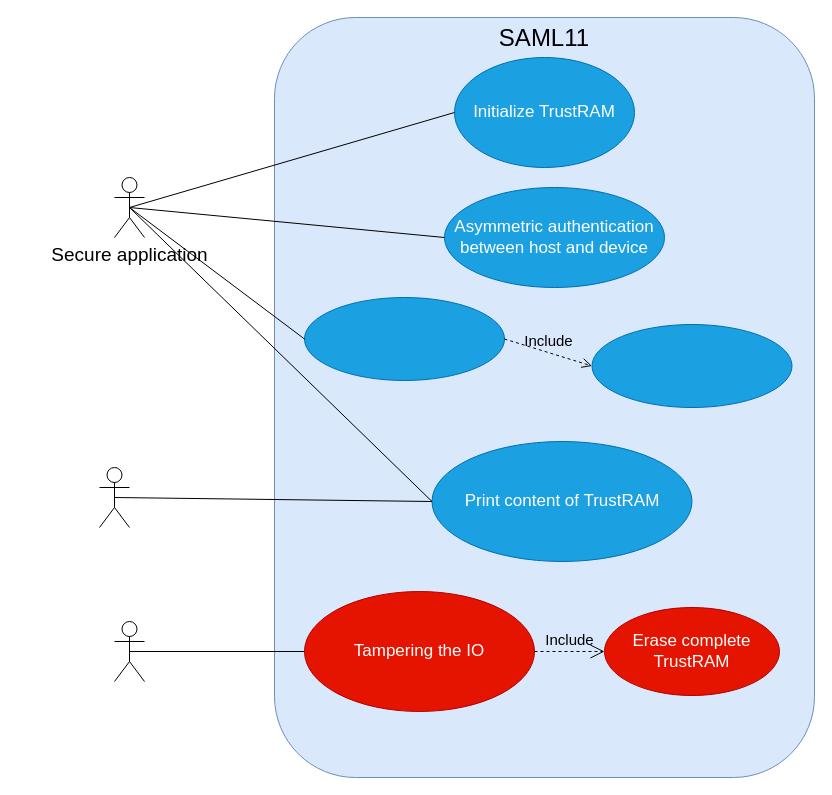
The diagram is 832 pixels wide and 795 high, and some of its shapes have lost their labels. Each missing label, with the centre of its shape:
ECDH key generation: the point at 404,338
Non-secure application: the point at 114,497
Store the generated key in RAM (session key): the point at 691,366
Threat Agent: the point at 129,651
